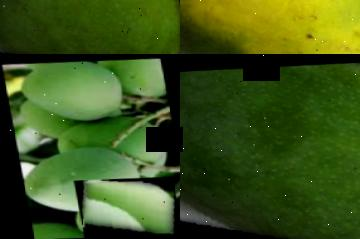Ripe: (180, 0, 360, 54)
Unripe: (180, 54, 360, 239), (0, 0, 180, 54), (75, 177, 180, 239)
